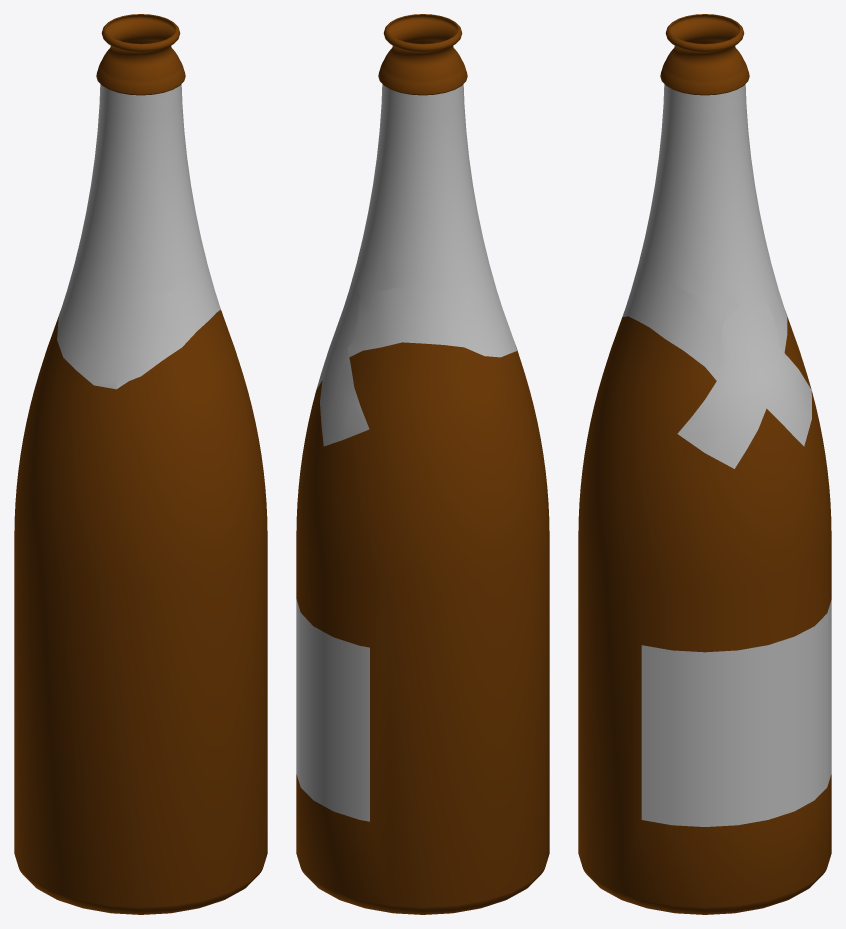
3 renders of one model, left to right at view 1: azimuth 30°, elevation 25°; view 2: azimuth 150°, elevation 25°; view 3: azimuth 270°, elevation 25°, orthographic.
Visible parts, largest first — view 1: mesh1_mesh1-geometry; view 2: mesh1_mesh1-geometry; view 3: mesh1_mesh1-geometry.
Part boxes in pixels (box(x1,y1,x2,y2)): mesh1_mesh1-geometry: box(14, 14, 267, 914); mesh1_mesh1-geometry: box(296, 14, 549, 914); mesh1_mesh1-geometry: box(578, 14, 831, 914).
Size of the model in its own units: 0.255 by 0.9327 by 0.255.
